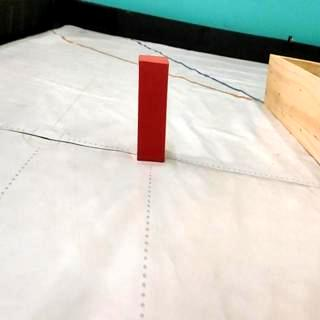redbox: (138, 54, 170, 162)
